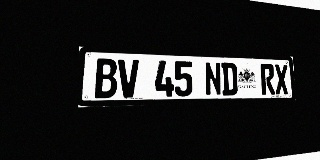4: (155, 60, 174, 97)
5: (174, 61, 193, 97)
B: (95, 58, 117, 98)
D: (221, 62, 238, 96)
N: (204, 62, 222, 96)
R: (260, 64, 275, 95)
V: (118, 59, 139, 98)
X: (274, 64, 289, 94)
